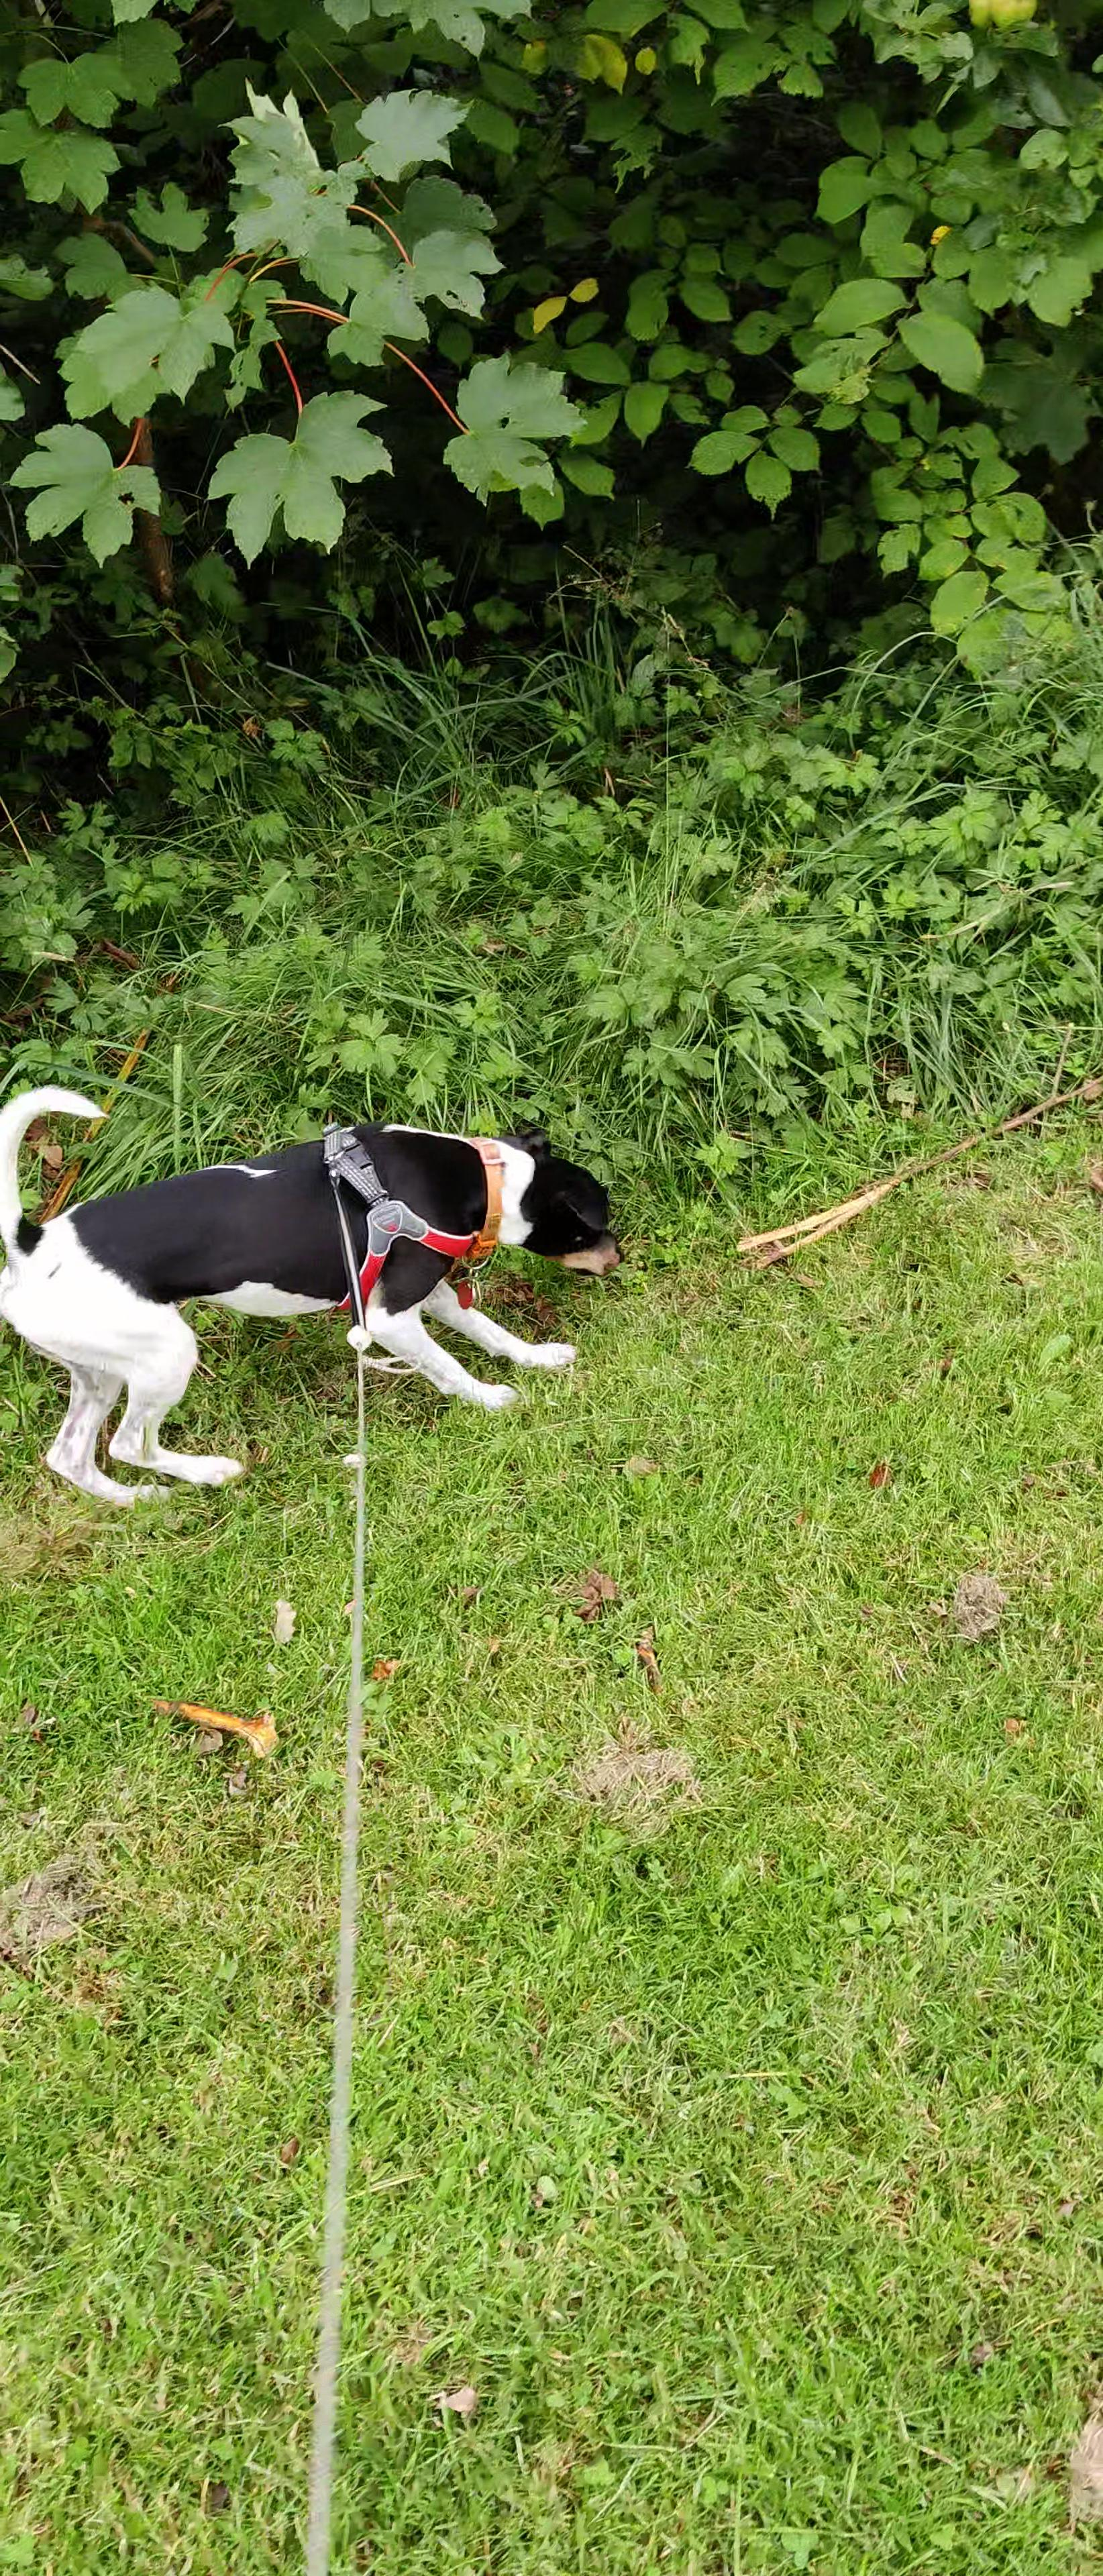Dog: (0, 1074, 636, 1518)
